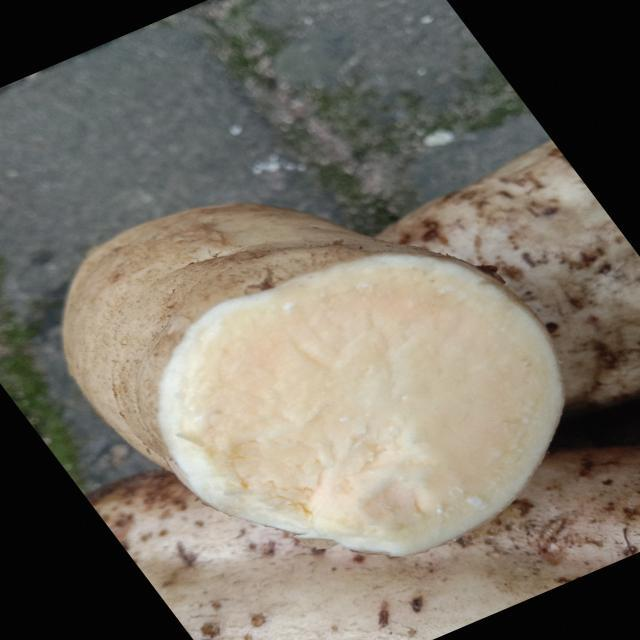Healthy Sweet Potato: (158, 255, 563, 555)
